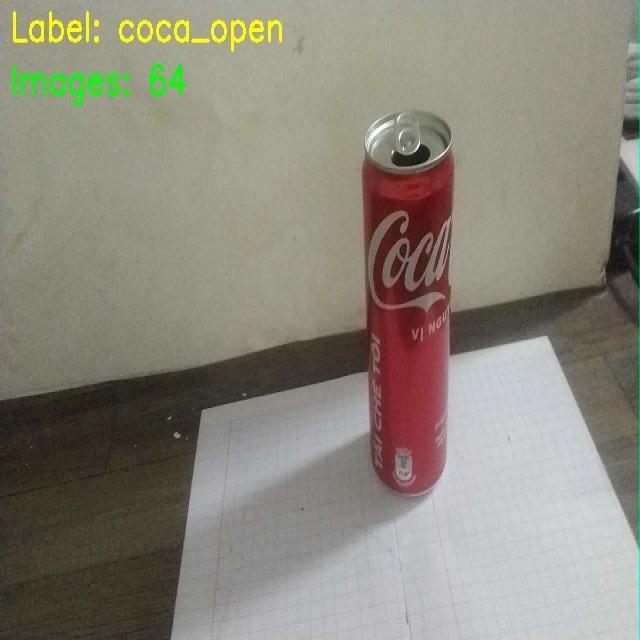Coca_open: (328, 75, 513, 512)
